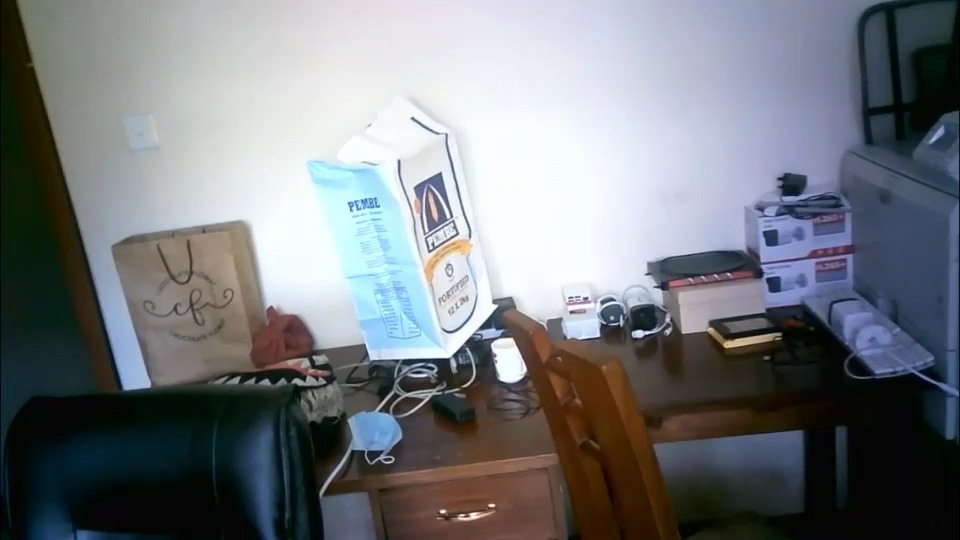wheat_flour_blue_label: (306, 96, 497, 355)
